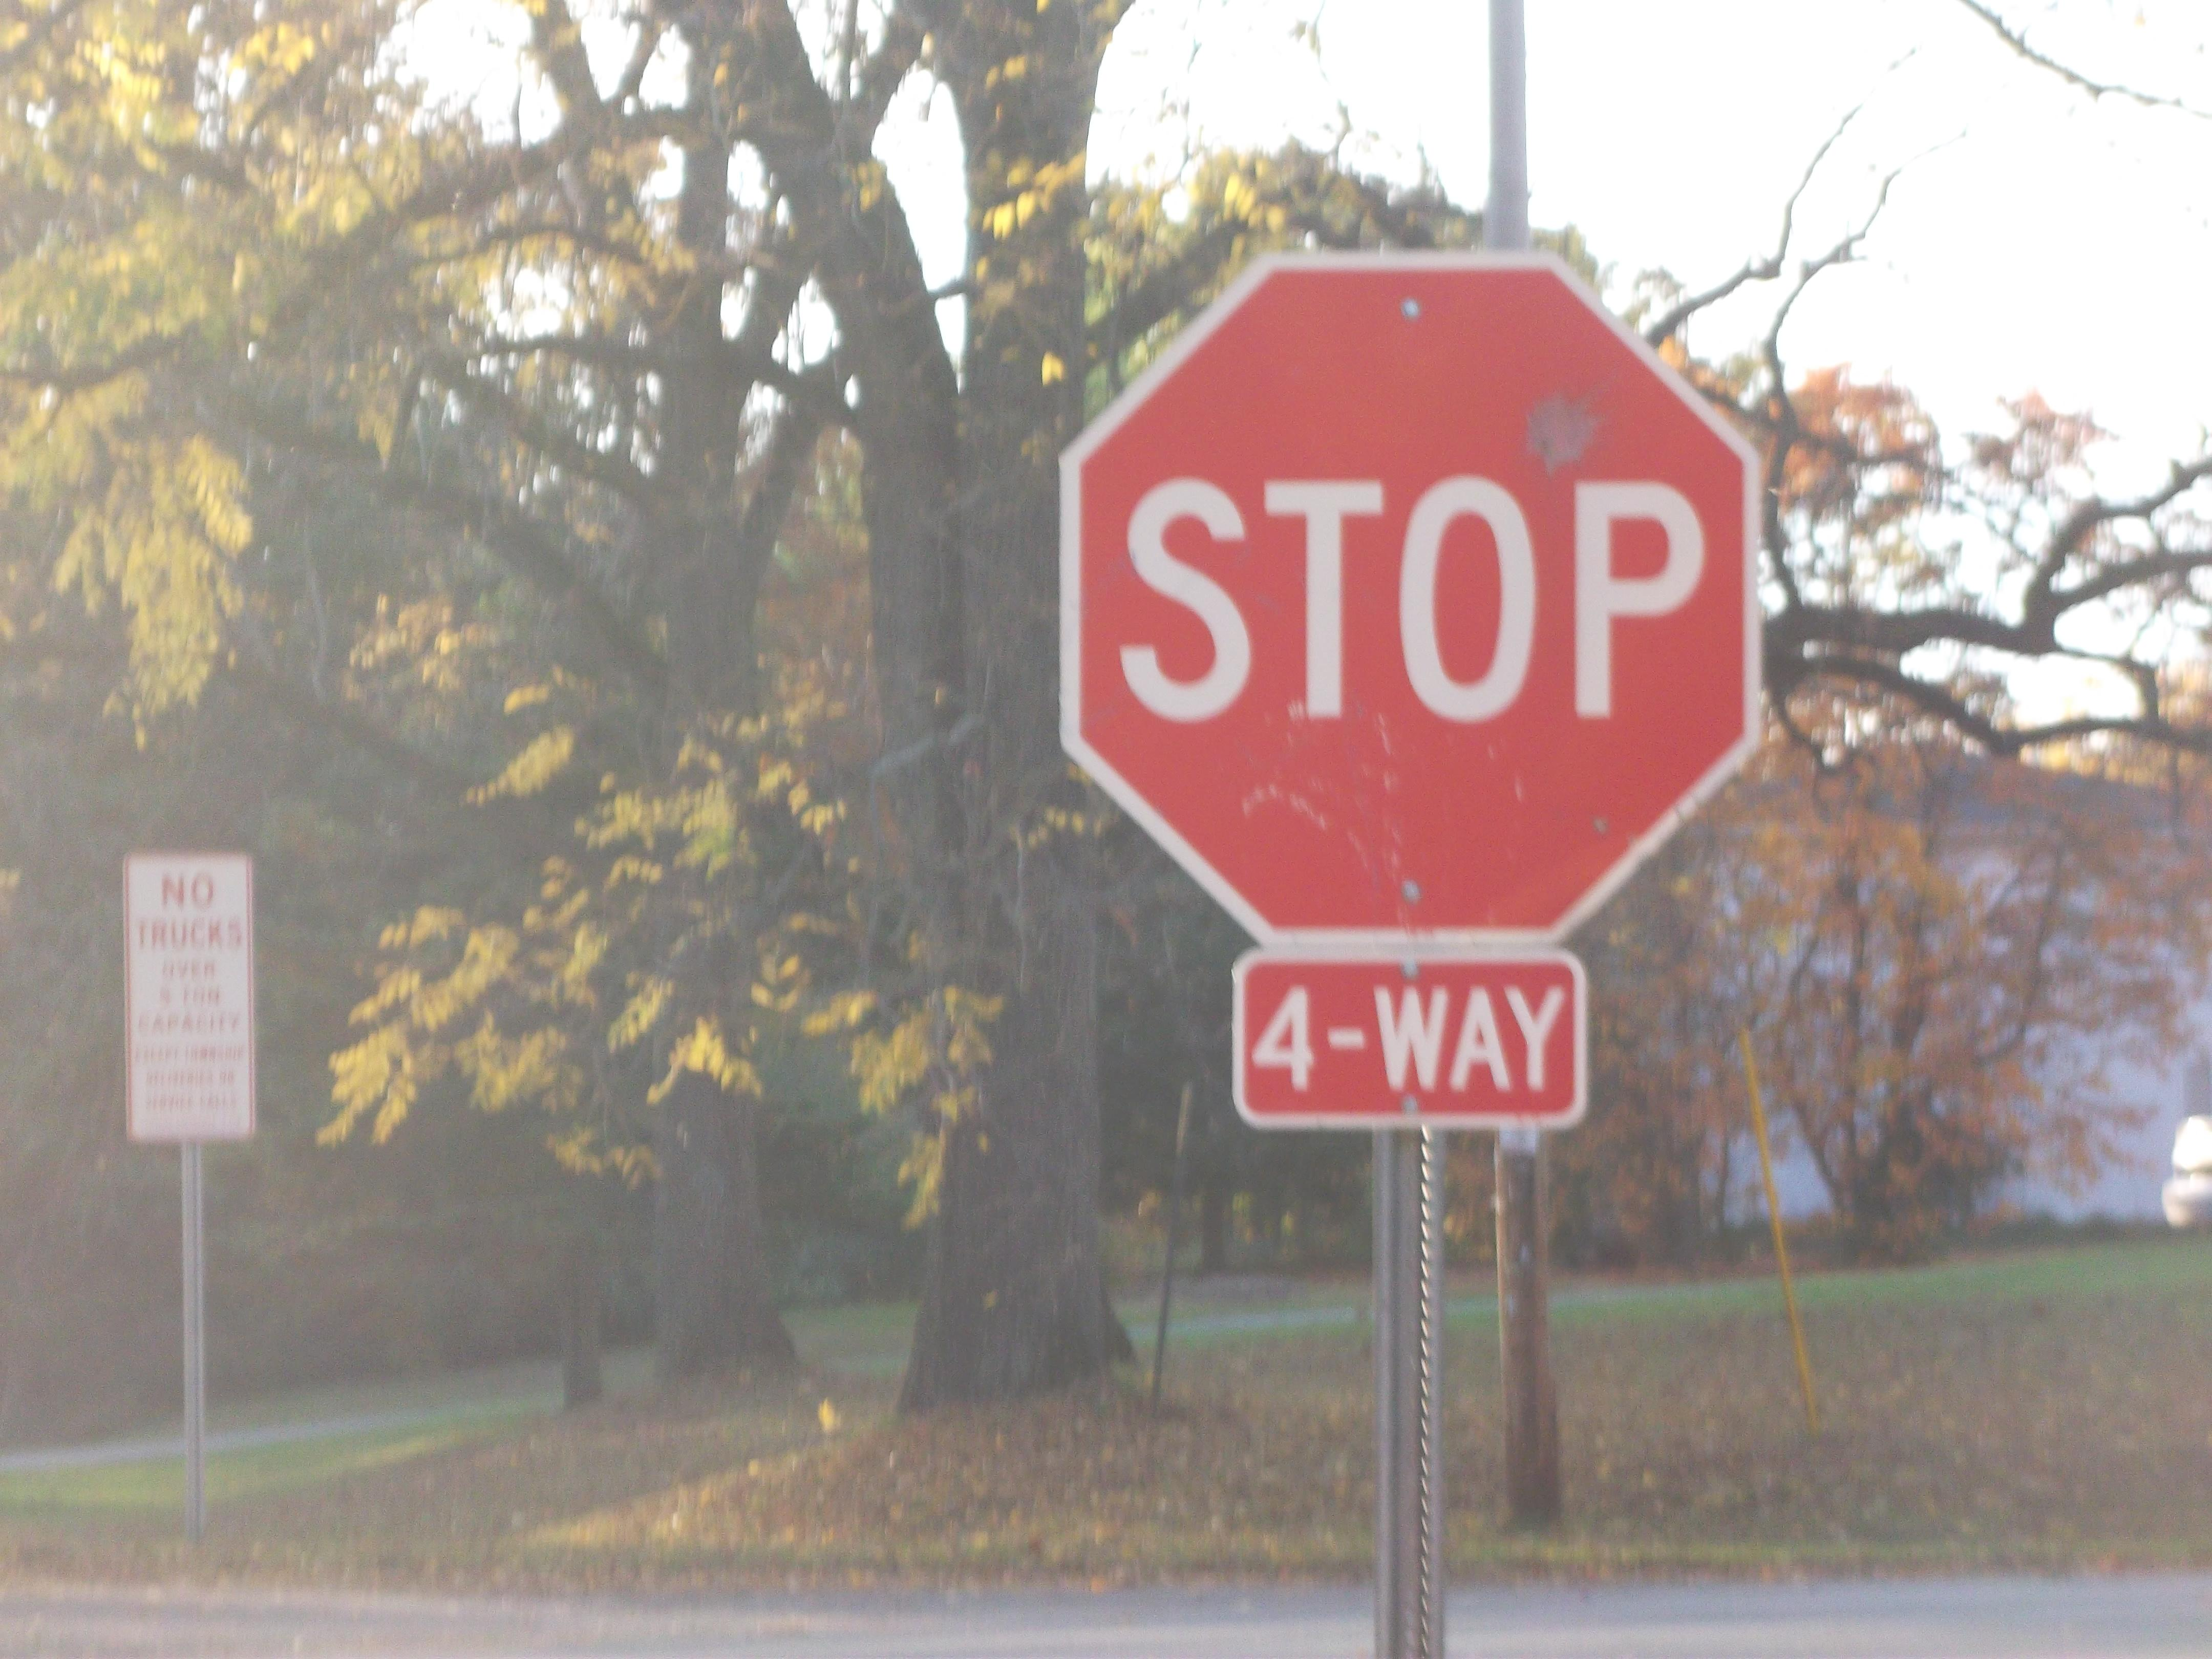stop: (1055, 211, 1829, 943)
